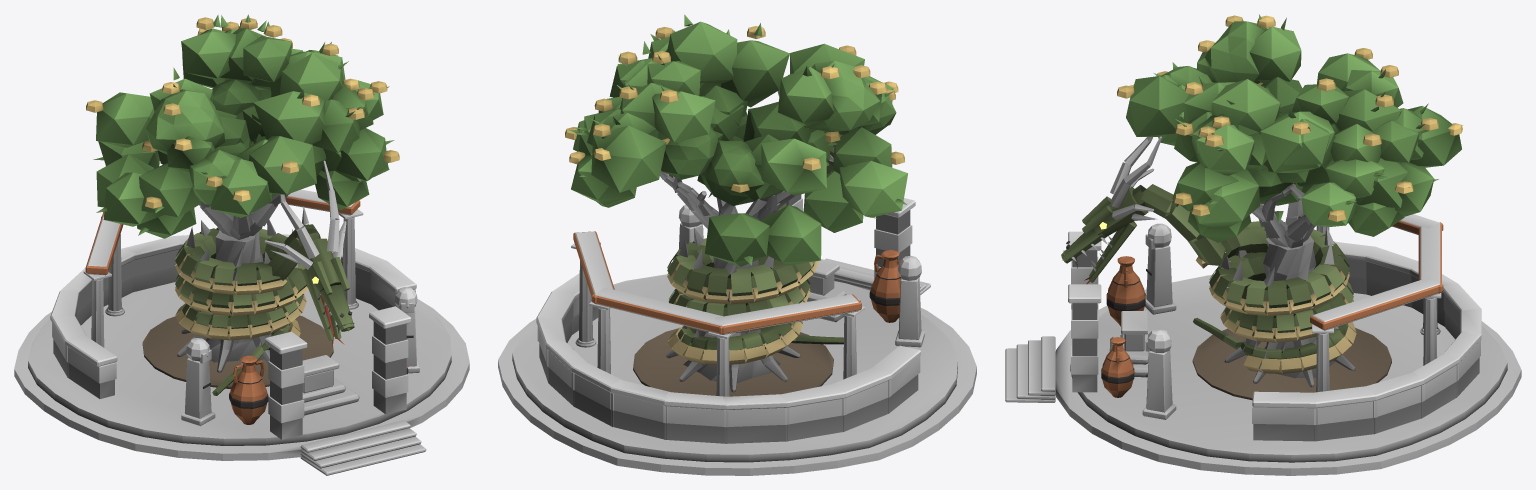
File: hesperides-tree-l2.glb
3 renders of one model, left to right at view 1: azimuth 30°, elevation 25°; view 2: azimuth 150°, elevation 25°; view 3: azimuth 270°, elevation 25°, orthographic. The views are drawn at different scales.
Visible parts, largest first — view 1: hesperides-tree-l2; view 2: hesperides-tree-l2; view 3: hesperides-tree-l2.
Boxes of the visible parts, bbox=[...] form: hesperides-tree-l2: bbox=[14, 14, 469, 475]; hesperides-tree-l2: bbox=[498, 14, 976, 475]; hesperides-tree-l2: bbox=[1005, 14, 1521, 475].
Bounding box in the file's own units: 1.52 × 1.17 × 1.68.
